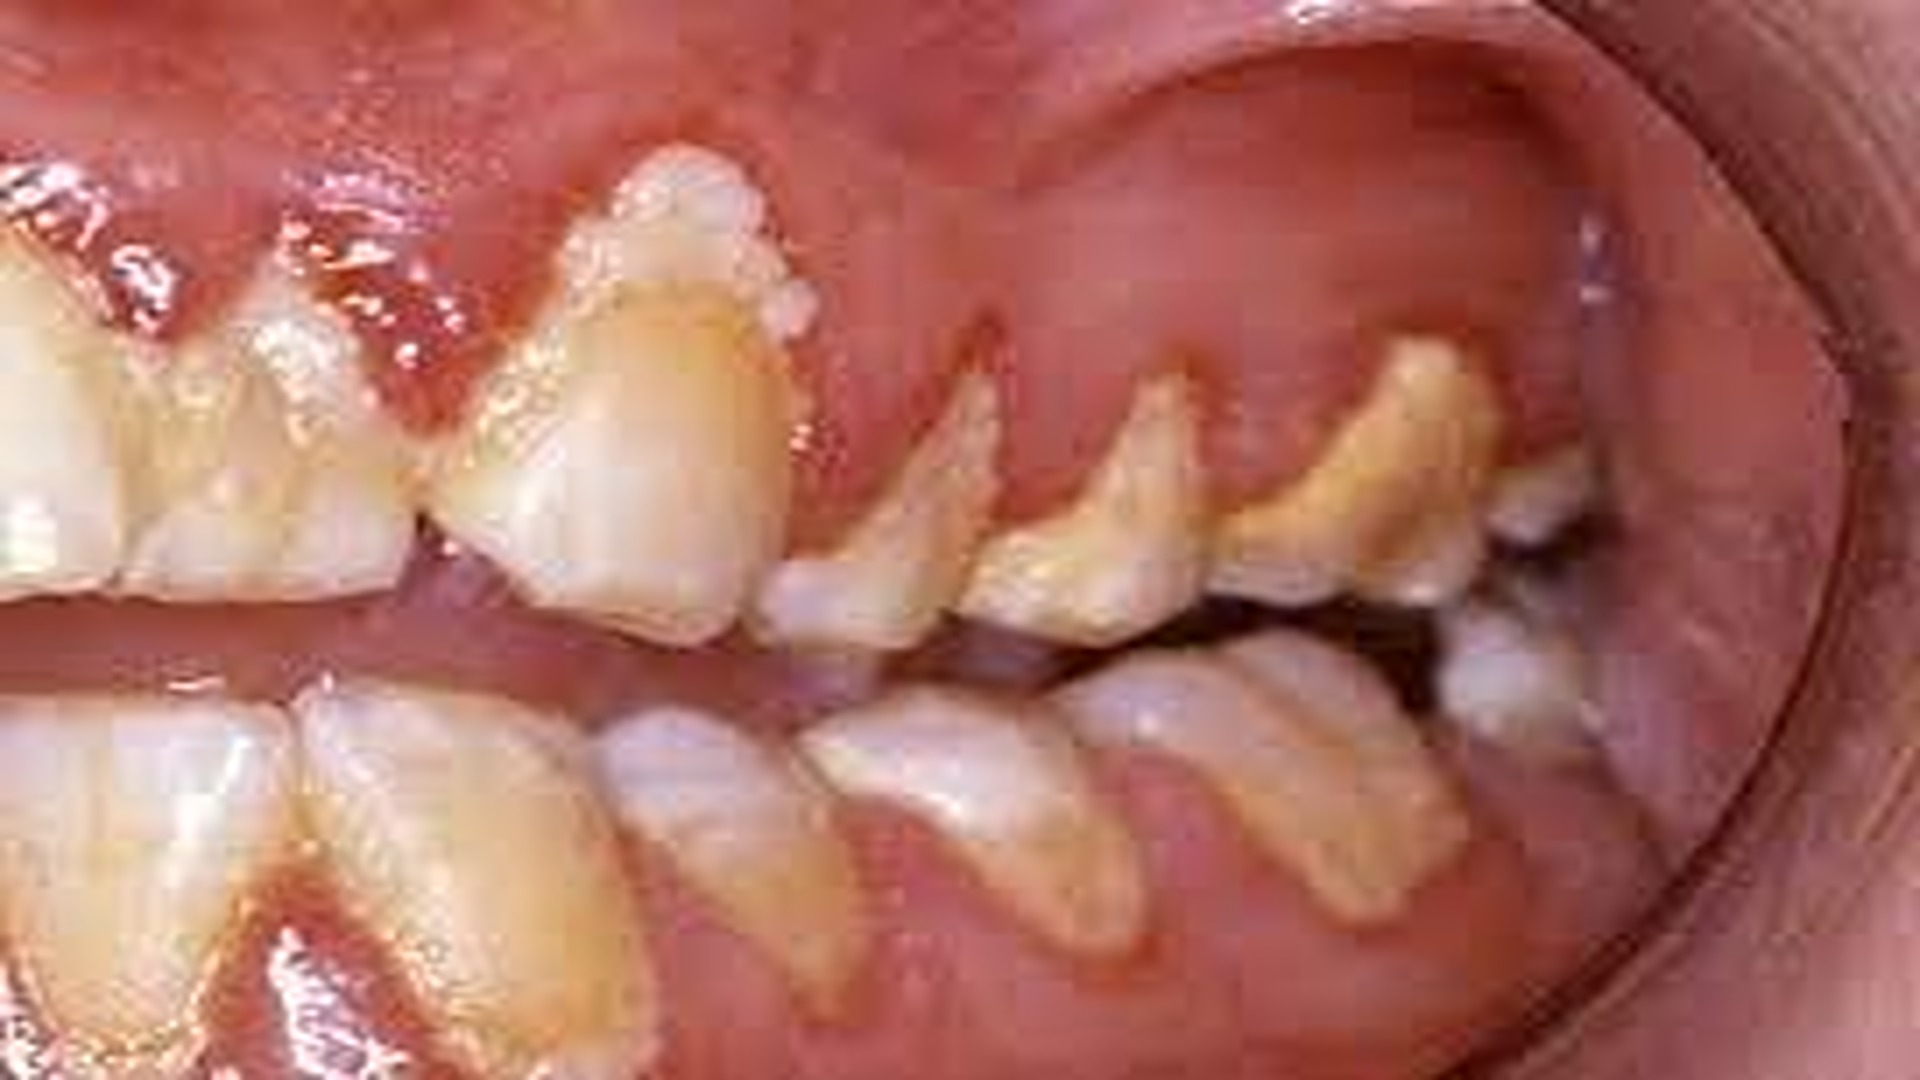tooth: (284, 673, 661, 1077), (1, 694, 380, 1077), (423, 277, 794, 646), (1048, 629, 1472, 926), (115, 264, 418, 601), (789, 684, 1149, 956), (587, 705, 870, 985), (1203, 338, 1497, 607), (756, 375, 1007, 649), (953, 375, 1205, 647)
